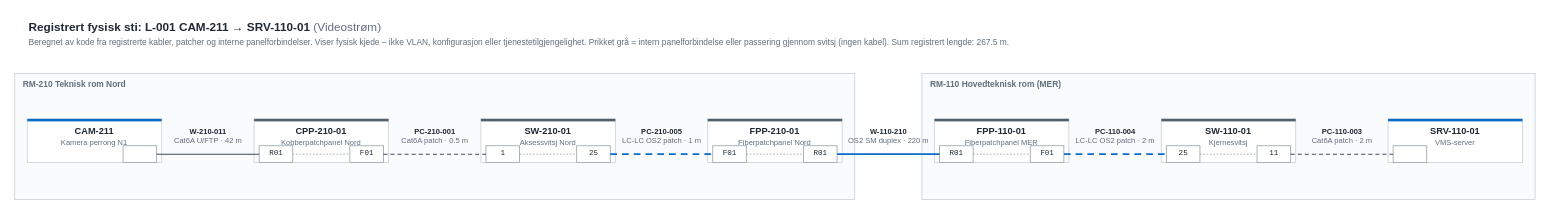
Some shapes in this 1550 by 214 pixel diagram are drawn without their labels. The centre of each missing label's shape, as x and y in pixels:
"ETH0" belongs at point 139,154.
"NIC1" belongs at point 1409,154.
